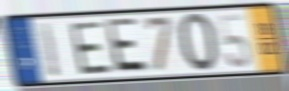5: (215, 11, 252, 70)
7: (143, 14, 175, 74)
E: (105, 16, 151, 75), (68, 19, 114, 77)
I: (37, 19, 62, 81)
O: (176, 11, 220, 74)
